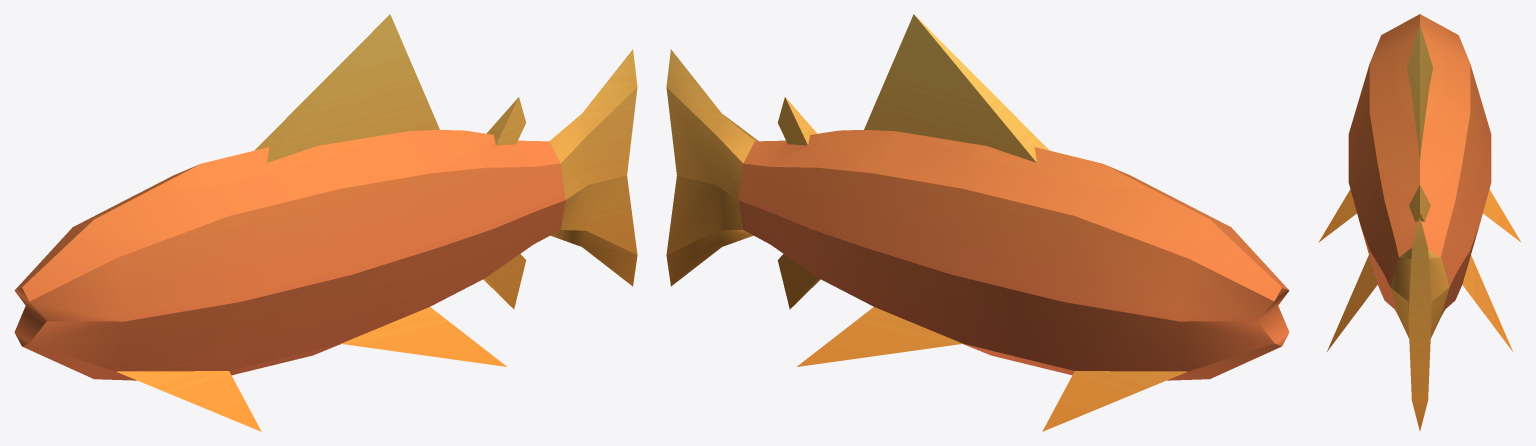
Rendered from fish_lev3.glb.
The picture shows the model from 3 angles, left to right: view 1: azimuth 30°, elevation 25°; view 2: azimuth 150°, elevation 25°; view 3: azimuth 270°, elevation 25°; orthographic projection. The views are drawn at different scales.
Parts seen in each view (by area): view 1: fish_lev3; view 2: fish_lev3; view 3: fish_lev3.
Boxes of the visible parts, x1=… form: fish_lev3: x1=14, y1=14, x2=637, y2=431; fish_lev3: x1=666, y1=14, x2=1289, y2=431; fish_lev3: x1=1318, y1=14, x2=1521, y2=430.
Bounding box in the file's own units: 1.76 × 0.9118 × 0.5598.
1 material, 1 textured.
